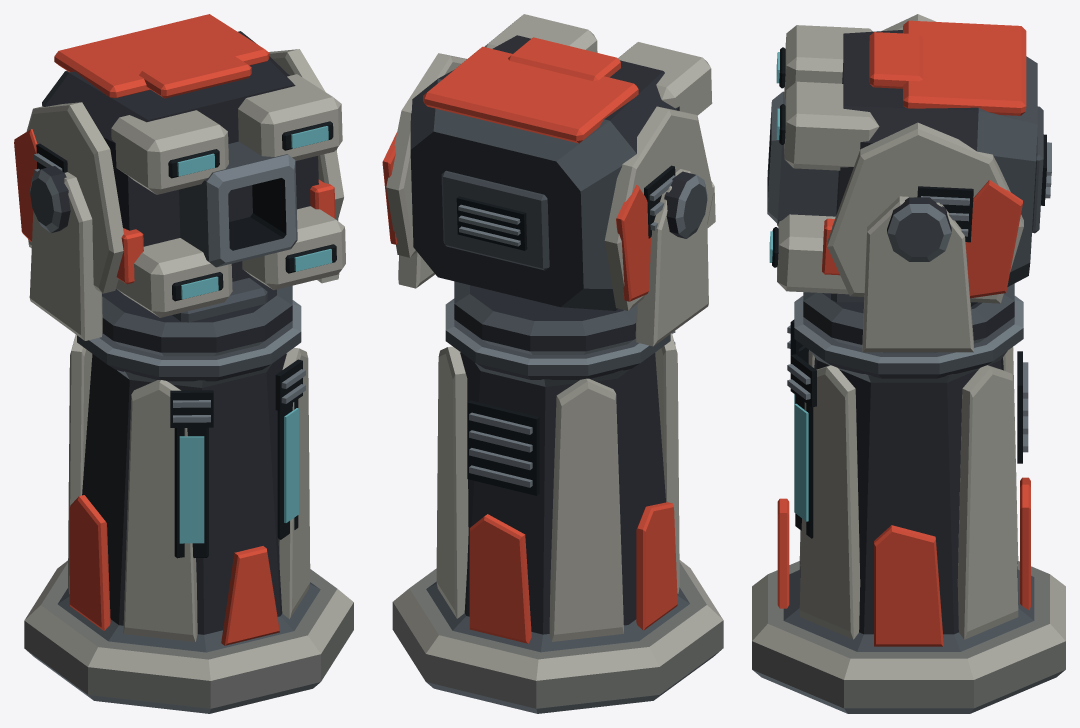
Rendered from lv5_balistique.glb.
The picture shows the model from 3 angles, left to right: view 1: azimuth 30°, elevation 25°; view 2: azimuth 150°, elevation 25°; view 3: azimuth 270°, elevation 25°; orthographic projection. The views are drawn at different scales.
Visible parts, largest first — view 1: Base, Barrel_Recoil, Turret_Yaw, Team_Panels, Base_TeamColor; view 2: Base, Barrel_Recoil, Turret_Yaw, Team_Panels, Base_TeamColor; view 3: Base, Barrel_Recoil, Turret_Yaw, Team_Panels, Base_TeamColor.
Boxes of the visible parts, <box> form: Base: <box>24,300,353,713</box>; Barrel_Recoil: <box>26,31,345,317</box>; Turret_Yaw: <box>29,148,339,356</box>; Team_Panels: <box>14,14,335,284</box>; Base_TeamColor: <box>69,495,279,645</box>; Base: <box>392,298,723,713</box>; Barrel_Recoil: <box>386,14,715,310</box>; Turret_Yaw: <box>398,169,708,354</box>; Team_Panels: <box>382,37,650,301</box>; Base_TeamColor: <box>469,502,677,643</box>; Base: <box>752,296,1065,713</box>; Barrel_Recoil: <box>767,14,1051,306</box>; Turret_Yaw: <box>803,196,1014,353</box>; Team_Panels: <box>822,20,1026,298</box>; Base_TeamColor: <box>777,477,1030,646</box>.
Bounding box in the file's own units: 1.93 × 3.8 × 1.8.
